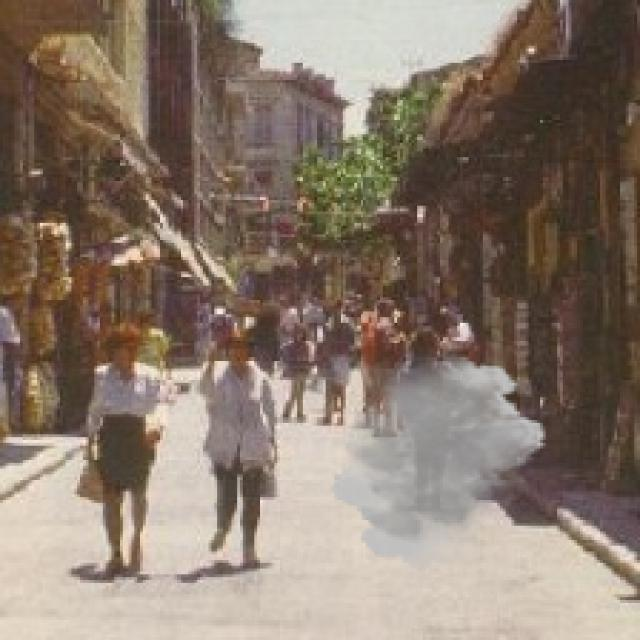smoke: (328, 352, 548, 572)
